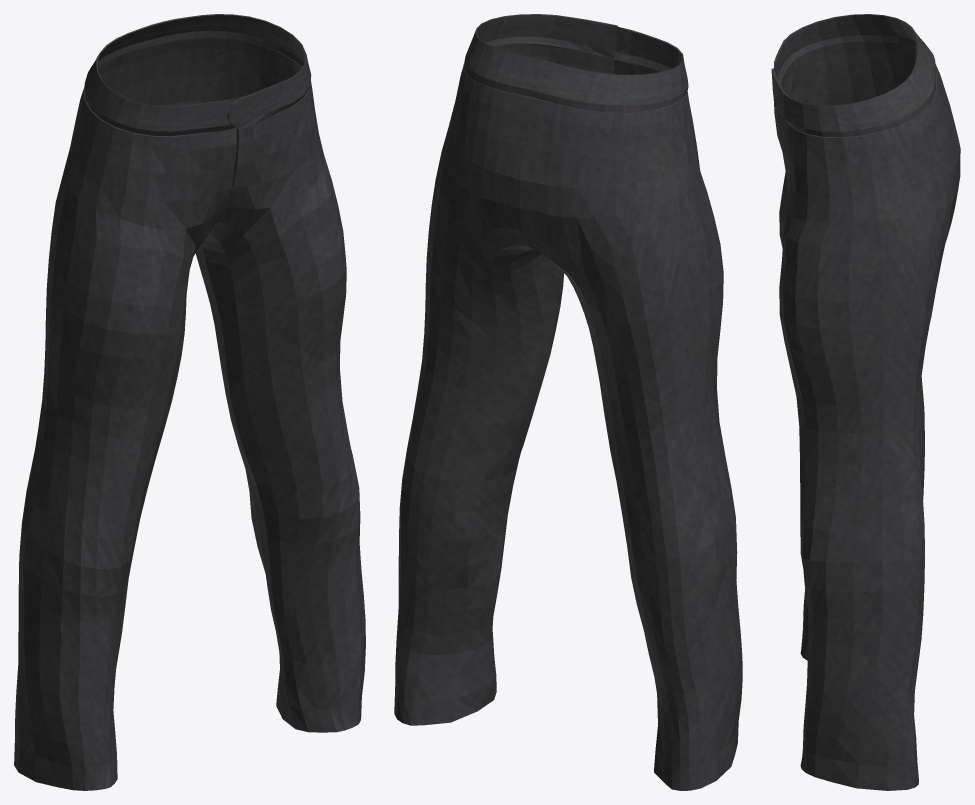
The model's file is mhw_toigo_wool_pants.glb.
The picture shows the model from 3 angles, left to right: view 1: azimuth 30°, elevation 25°; view 2: azimuth 150°, elevation 25°; view 3: azimuth 270°, elevation 25°; orthographic projection. The views are drawn at different scales.
Parts seen in each view (by area): view 1: mhw_toigo_wool_pants; view 2: mhw_toigo_wool_pants; view 3: mhw_toigo_wool_pants.
Part boxes in pixels (x1,y1,x2,y2): mhw_toigo_wool_pants: (14, 14, 365, 790); mhw_toigo_wool_pants: (394, 14, 742, 790); mhw_toigo_wool_pants: (771, 14, 960, 790).
Bounding box in the file's own units: 0.5129 × 1.07 × 0.2726.
1 material, 1 textured.
